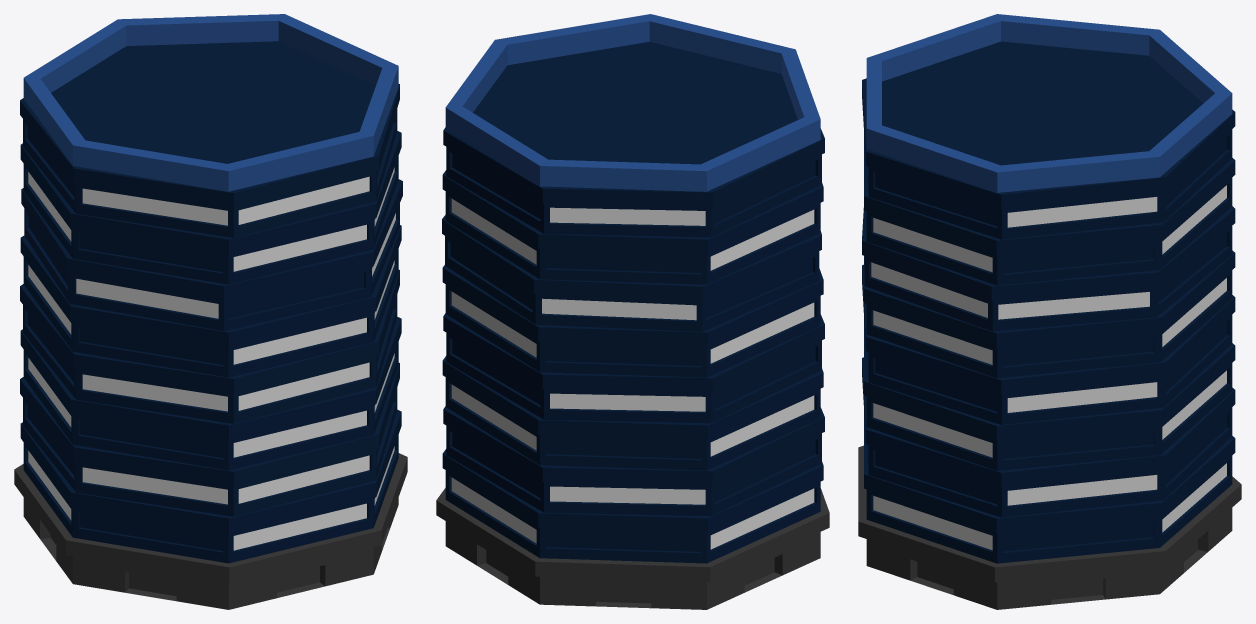
The model's file is Building3_2.fbx.
The picture shows the model from 3 angles, left to right: view 1: azimuth 30°, elevation 25°; view 2: azimuth 150°, elevation 25°; view 3: azimuth 270°, elevation 25°; orthographic projection.
Parts seen in each view (by area): view 1: Circle.002; view 2: Circle.002; view 3: Circle.002.
Boxes of the visible parts, x1,y1,x2,y2 form: Circle.002: (14, 14, 407, 609); Circle.002: (436, 14, 829, 609); Circle.002: (858, 14, 1241, 609).
Bounding box in the file's own units: 1022 × 1255 × 997.
